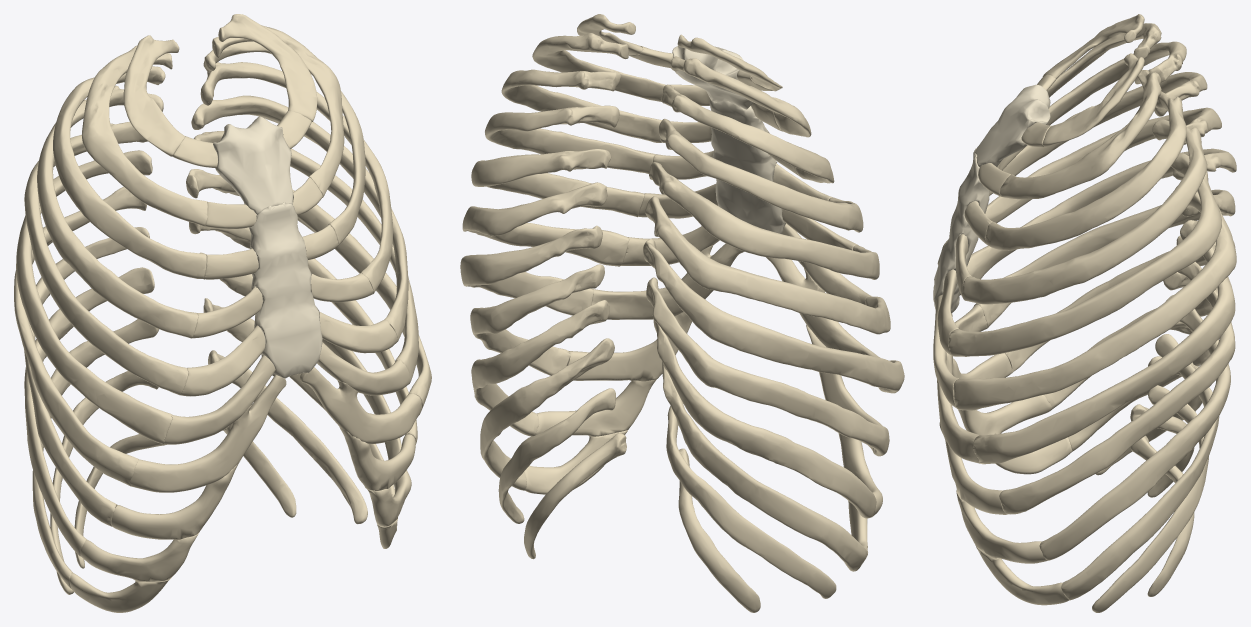
The model's file is caixa-toracica.glb.
3 views of the same model, side by side, from view 1: azimuth 30°, elevation 25°; view 2: azimuth 150°, elevation 25°; view 3: azimuth 270°, elevation 25° (orthographic). The views are drawn at different scales.
Visible parts, largest first — view 1: Body of sternum, Sixth rib.r, Fourth rib.r, Fifth rib.r, Third rib.r, Second rib.r, Manubrium of sternum, Seventh rib.r, Costal cartilage of seventh rib.r, Fifth rib.l, Ninth rib.r, Fourth rib.l (+33 smaller); view 2: Seventh rib.r, Sixth rib.r, Eighth rib.r, Ninth rib.r, Fifth rib.r, Tenth rib.r, Sixth rib.l, Fifth rib.l, Fourth rib.l, Seventh rib.l, Eleventh rib.r, Fourth rib.r (+29 smaller); view 3: Sixth rib.l, Fifth rib.l, Seventh rib.l, Fourth rib.l, Eighth rib.l, Ninth rib.l, Third rib.l, Tenth rib.l, Second rib.l, Seventh rib.r, Eleventh rib.l, Sixth rib.r (+28 smaller).
Part boxes in pixels (x1,y1,x2,y2): Body of sternum: (249,202,322,378); Sixth rib.r: (16,150,172,444); Fourth rib.r: (37,85,198,338); Fifth rib.r: (24,121,188,395); Third rib.r: (53,66,206,278); Second rib.r: (81,45,207,226); Manubrium of sternum: (213,116,293,214); Seventh rib.r: (14,186,146,486); Costal cartilage of seventh rib.r: (129,374,286,492); Fifth rib.l: (191,95,408,341); Ninth rib.r: (24,267,154,556); Fourth rib.l: (200,62,393,293); Seventh rib.r: (643,238,904,393); Sixth rib.r: (645,196,890,334); Eighth rib.r: (646,277,889,456); Ninth rib.r: (653,320,876,518); Fifth rib.r: (649,162,879,279); Tenth rib.r: (662,362,866,570); Sixth rib.l: (462,182,629,266); Fifth rib.l: (471,149,644,217); Fourth rib.l: (485,105,655,173); Seventh rib.l: (460,225,602,315); Eleventh rib.r: (666,406,836,598); Fourth rib.r: (659,118,863,232); Sixth rib.l: (953,186,1236,410); Fifth rib.l: (948,153,1221,356); Seventh rib.l: (973,220,1235,464); Fourth rib.l: (962,119,1207,304); Eighth rib.l: (999,261,1235,514); Ninth rib.l: (1039,295,1230,560); Third rib.l: (985,91,1186,250); Tenth rib.l: (1061,334,1219,600); Second rib.l: (1000,70,1161,199); Seventh rib.r: (973,189,1235,329); Eleventh rib.l: (1092,385,1208,612); Sixth rib.r: (967,148,1236,279).
Bounding box in the file's own units: 0.2832 × 0.3901 × 0.2102.
